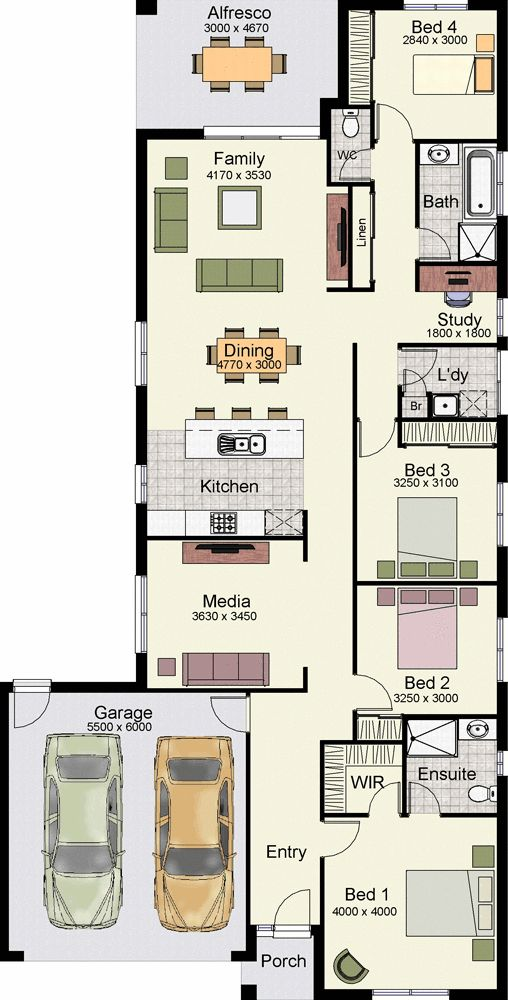door: (358, 671, 398, 713), (355, 422, 395, 464), (401, 346, 441, 388), (415, 223, 455, 265), (325, 818, 364, 859), (274, 883, 313, 924), (375, 103, 415, 142), (11, 696, 51, 732), (205, 695, 245, 731), (366, 778, 404, 814), (405, 779, 443, 815), (334, 147, 373, 182)
room: (319, 813, 508, 1000), (136, 510, 308, 693), (352, 417, 508, 585), (352, 581, 508, 718), (370, 1, 508, 142), (414, 139, 508, 266), (397, 343, 508, 422)
window: (204, 126, 321, 140), (134, 574, 150, 655), (494, 348, 508, 416), (494, 479, 508, 547), (494, 616, 508, 684), (493, 151, 507, 218), (133, 320, 147, 387), (372, 988, 450, 1000), (403, 1, 468, 12), (133, 464, 147, 507), (493, 297, 507, 340)
